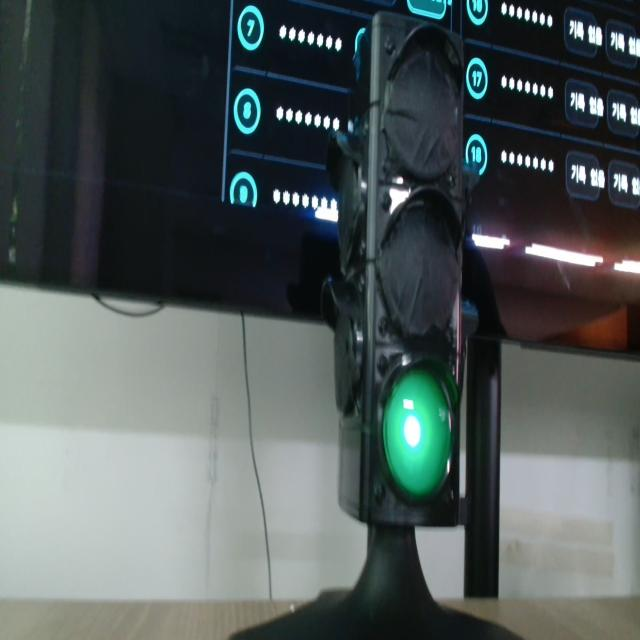green_light: (384, 370, 451, 499)
